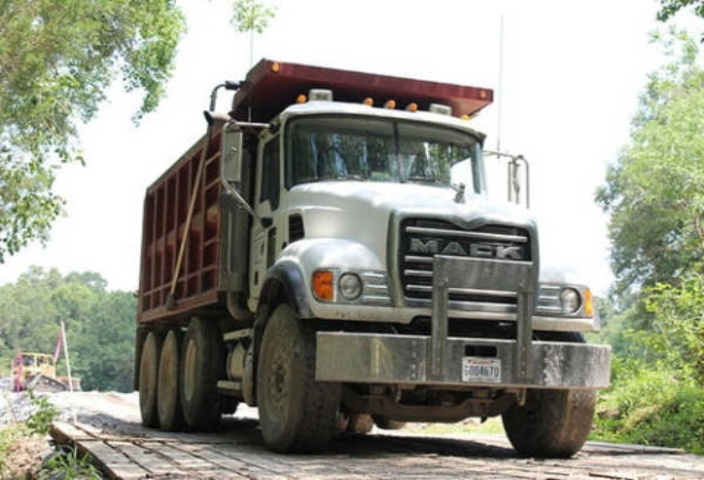truck: (80, 44, 627, 475)
